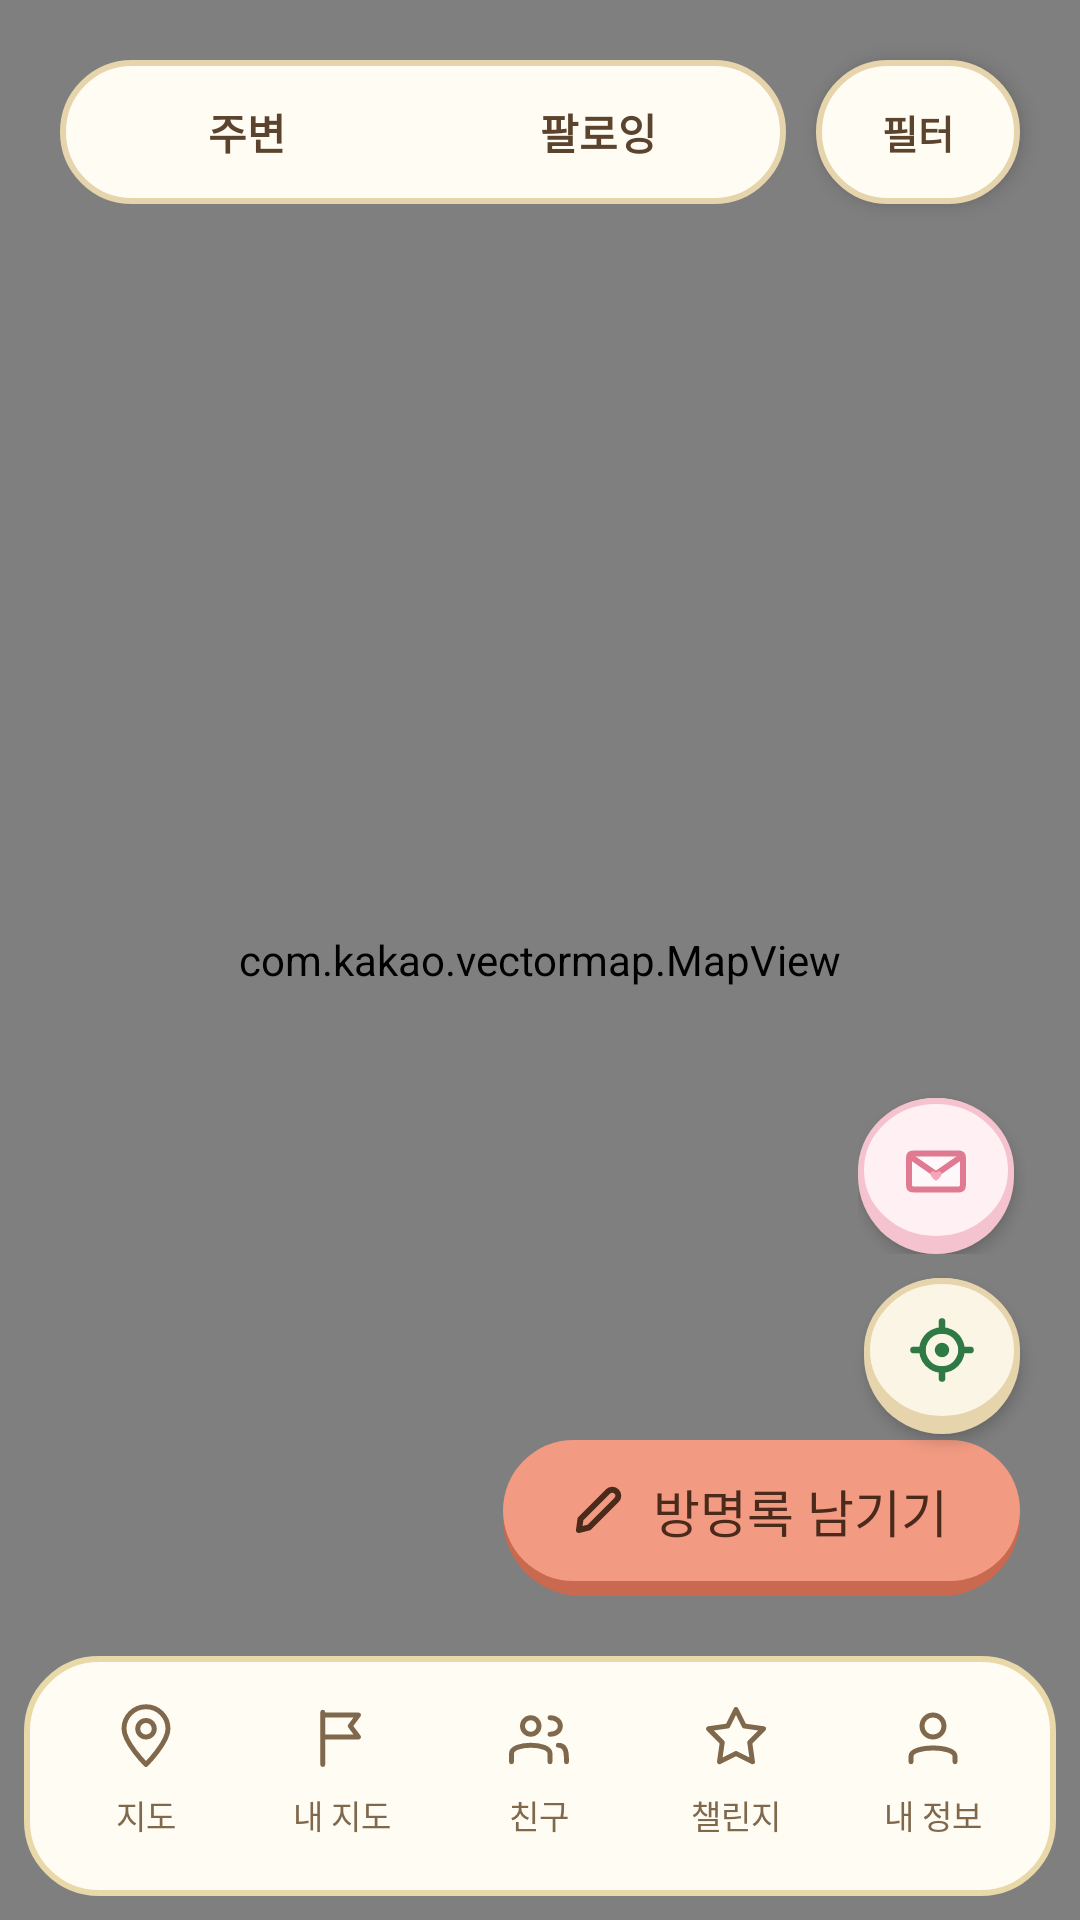

Icons on this 1080x1920 Android screen, each with its box as Rect(x1, y1, x2, y2):
내 위치로 가기: Rect(864, 1278, 1020, 1434)
편지함: Rect(858, 1098, 1014, 1254)
